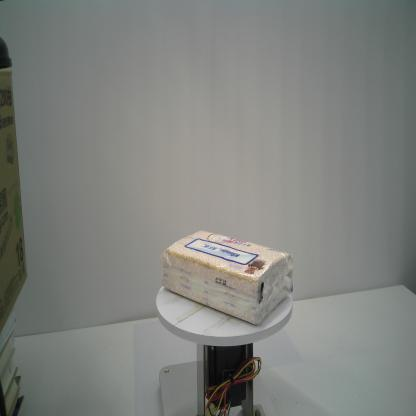Tissue: (159, 230, 294, 326)
